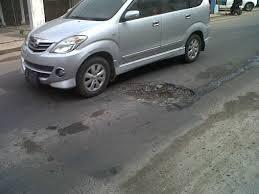Pothole: (122, 70, 206, 116)
